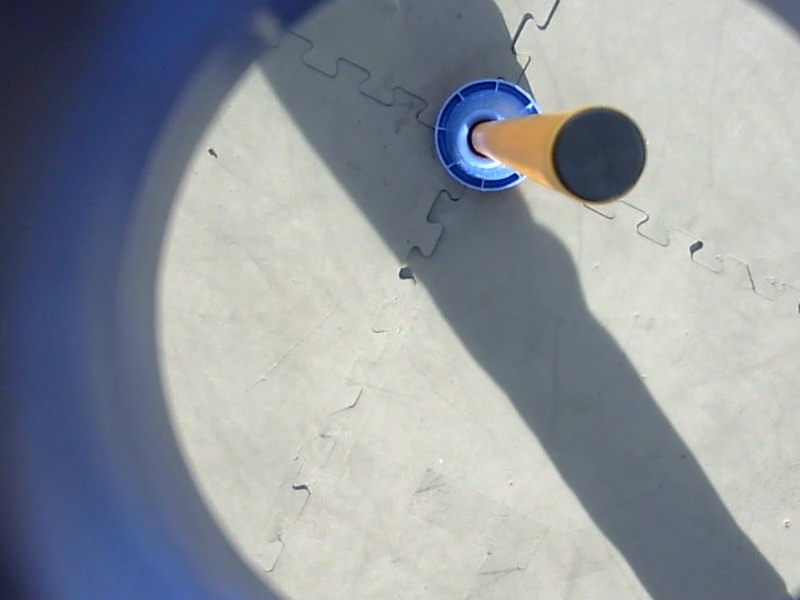tip: (541, 102, 655, 212)
